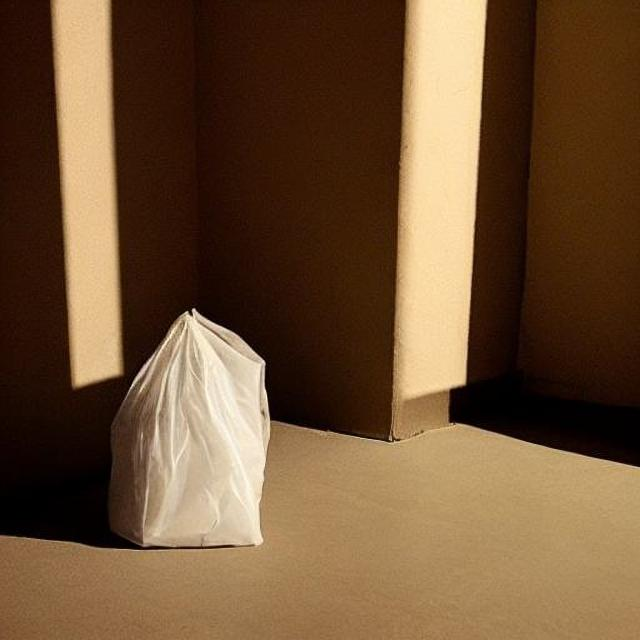plastic bag: (110, 306, 268, 545)
